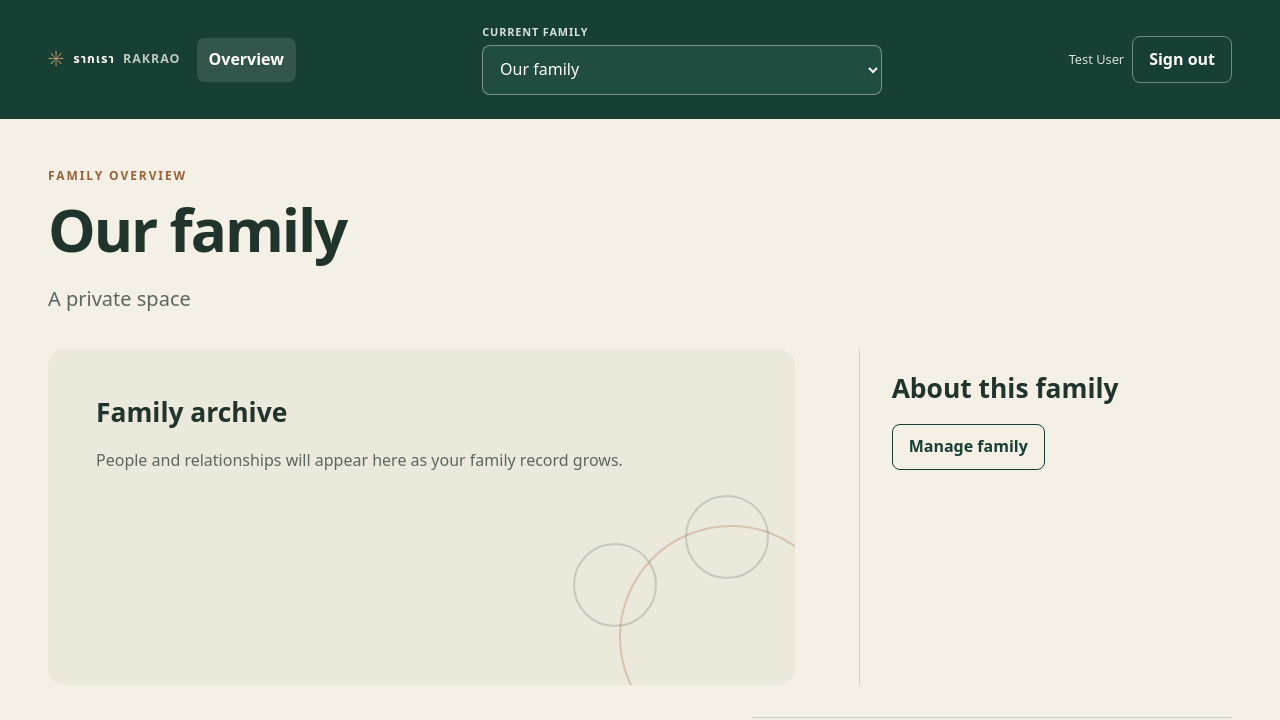
Test case: authentication shell › switches only among returned families and shows edit controls from capabilities
Check: the button "Manage family" is shown, box x1=892 y1=424 x2=1045 y2=470
Select "Another family" in the dropdown labelled "Current family": (682,70) x1=482 y1=45 x2=882 y2=95
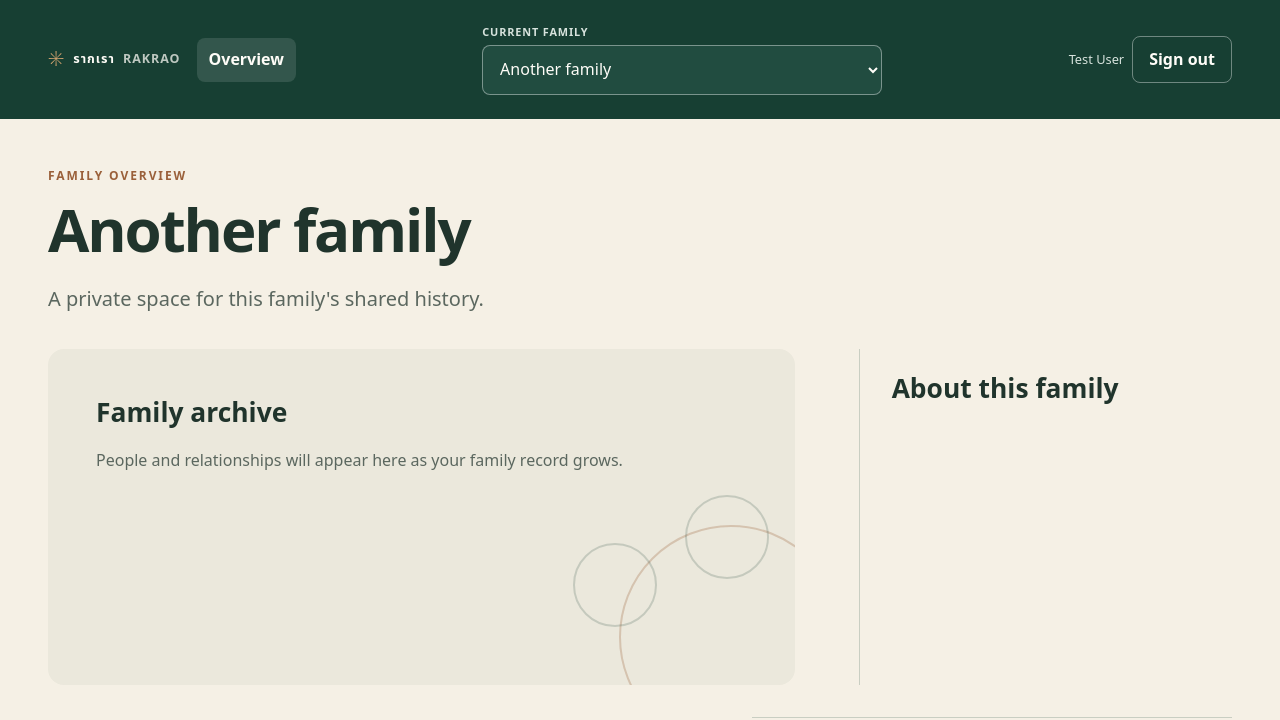
Check: the heading "Another family" is shown, box x1=48 y1=188 x2=470 y2=279
Check: the button "Manage family" is gone
